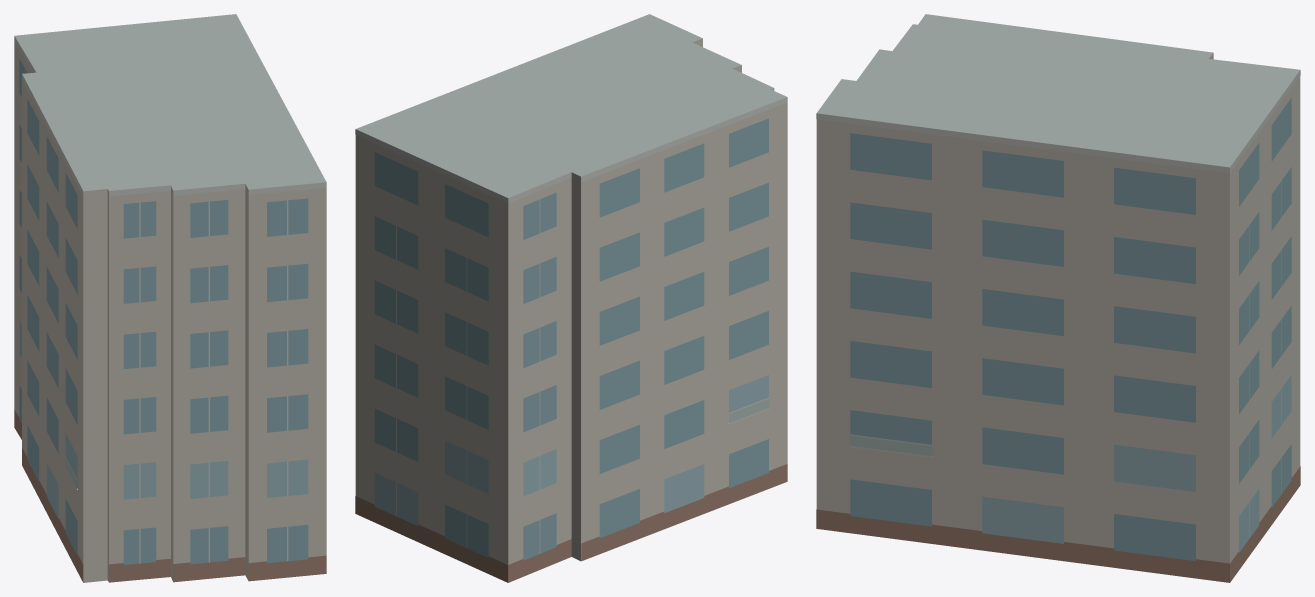
Rendered from survey-upis-32951090.glb.
3 views of the same model, side by side, from view 1: azimuth 30°, elevation 25°; view 2: azimuth 150°, elevation 25°; view 3: azimuth 270°, elevation 25° (orthographic). The views are drawn at different scales.
Parts seen in each view (by area): view 1: survey-upis-32951090.tmp; view 2: survey-upis-32951090.tmp; view 3: survey-upis-32951090.tmp.
Boxes of the visible parts, x1,y1,x2,y2 form: survey-upis-32951090.tmp: [14, 14, 326, 582]; survey-upis-32951090.tmp: [355, 14, 787, 582]; survey-upis-32951090.tmp: [816, 14, 1300, 582].
Size of the model in its own units: 13.71 by 17.3 by 18.28.
